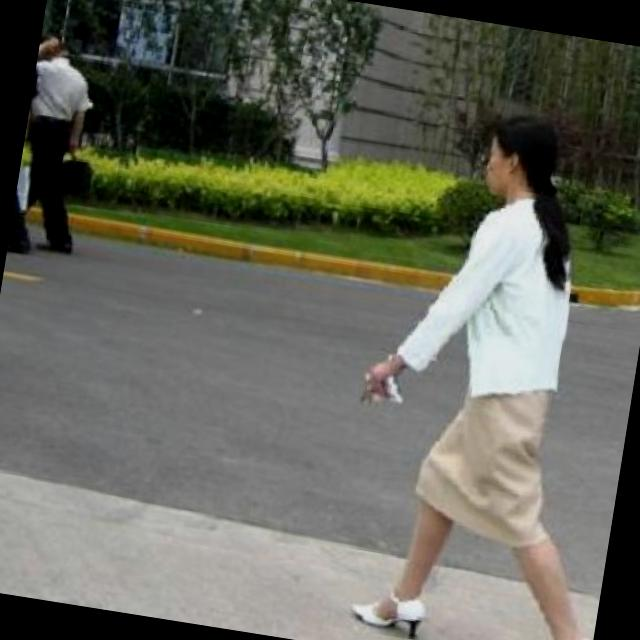Person: (314, 91, 640, 640), (5, 27, 116, 270)
